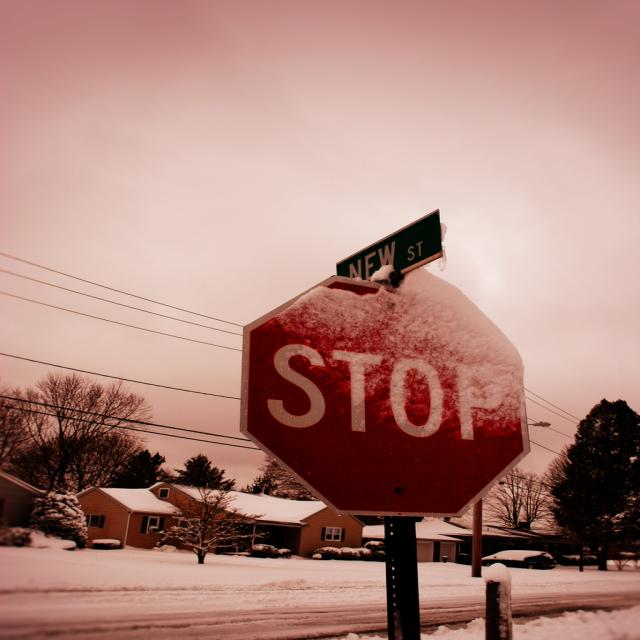Stop-sign: (236, 274, 532, 518)
